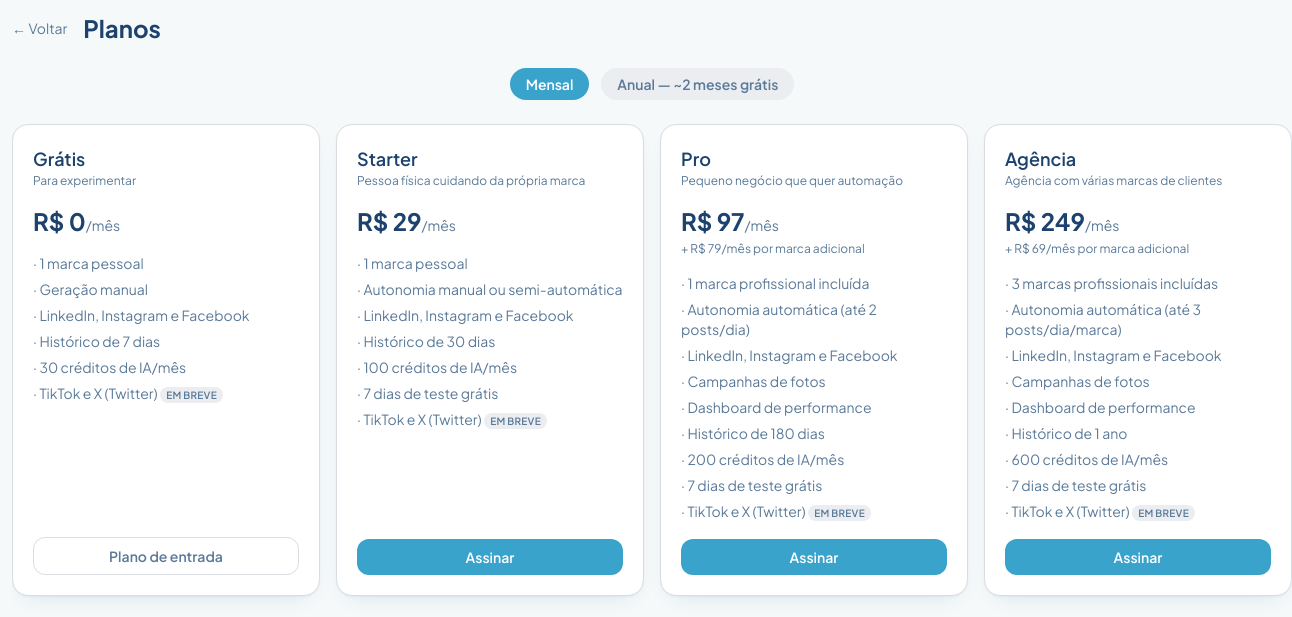
Test case: PlansPage › troca pro preço anual ao clicar no seletor
Step 1. Click the button "Anual — ~2 meses grátis" → coordinates (698, 84), box [601,68,794,100]
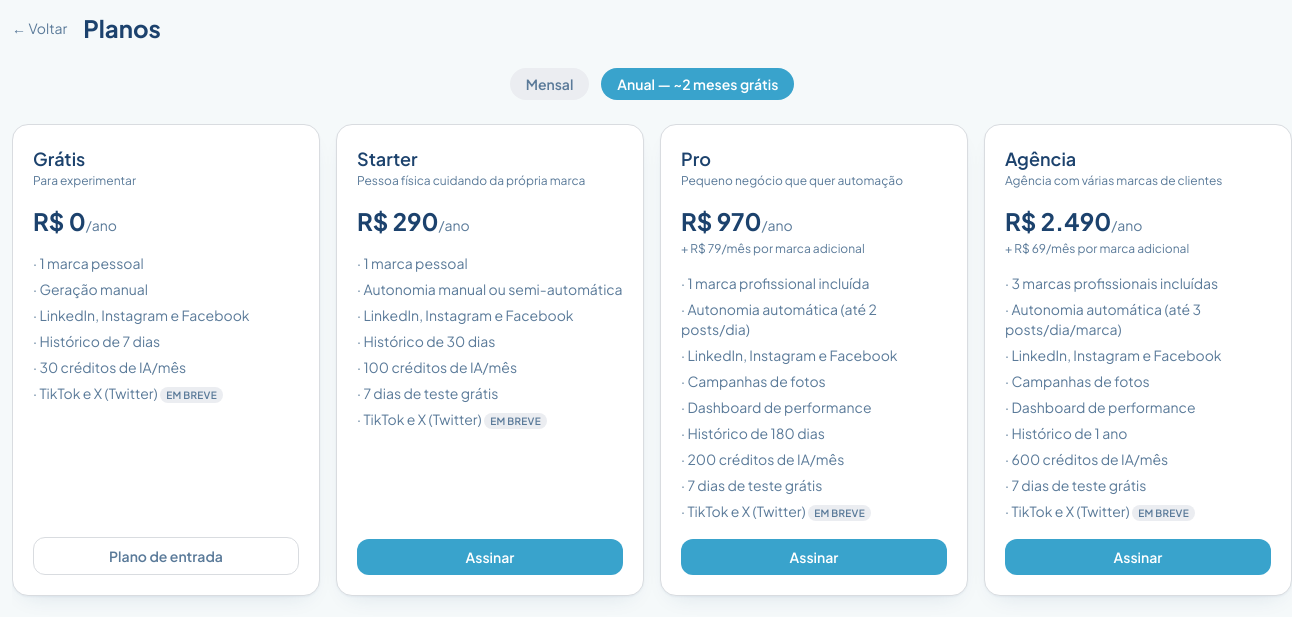
Now the text "R$ 290" is shown, box [357,206,438,236]
